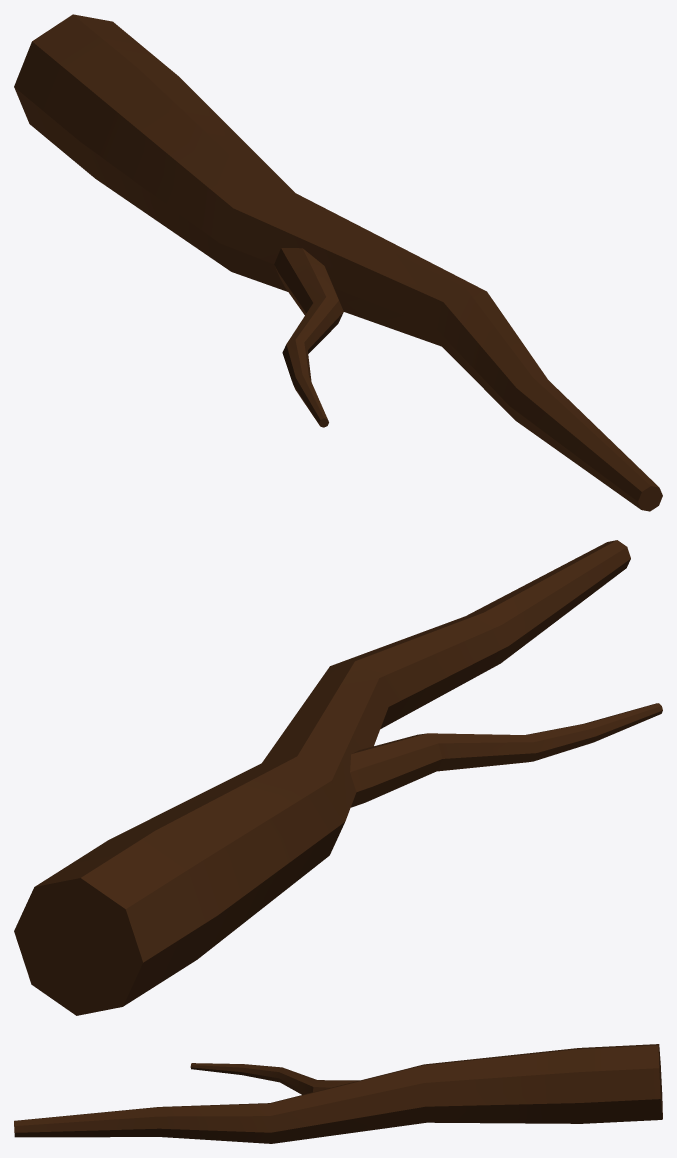
The model's file is Fallen-Log-2.fbx.
3 views of the same model, one above another, from view 1: azimuth 30°, elevation 25°; view 2: azimuth 150°, elevation 25°; view 3: azimuth 270°, elevation 25° (orthographic). The views are drawn at different scales.
Visible parts, largest first — view 1: Cylinder.110; view 2: Cylinder.110; view 3: Cylinder.110.
Boxes of the visible parts, x1,y1,x2,y2 form: Cylinder.110: (14,14,662,511); Cylinder.110: (14,540,662,1015); Cylinder.110: (14,1044,662,1143).
Size of the model in its own units: 34.5 by 17.28 by 132.
